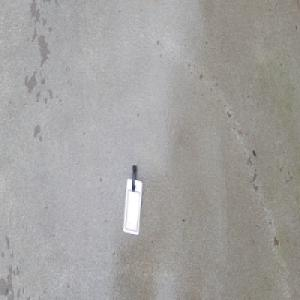LuggageTag: (121, 163, 142, 236)
